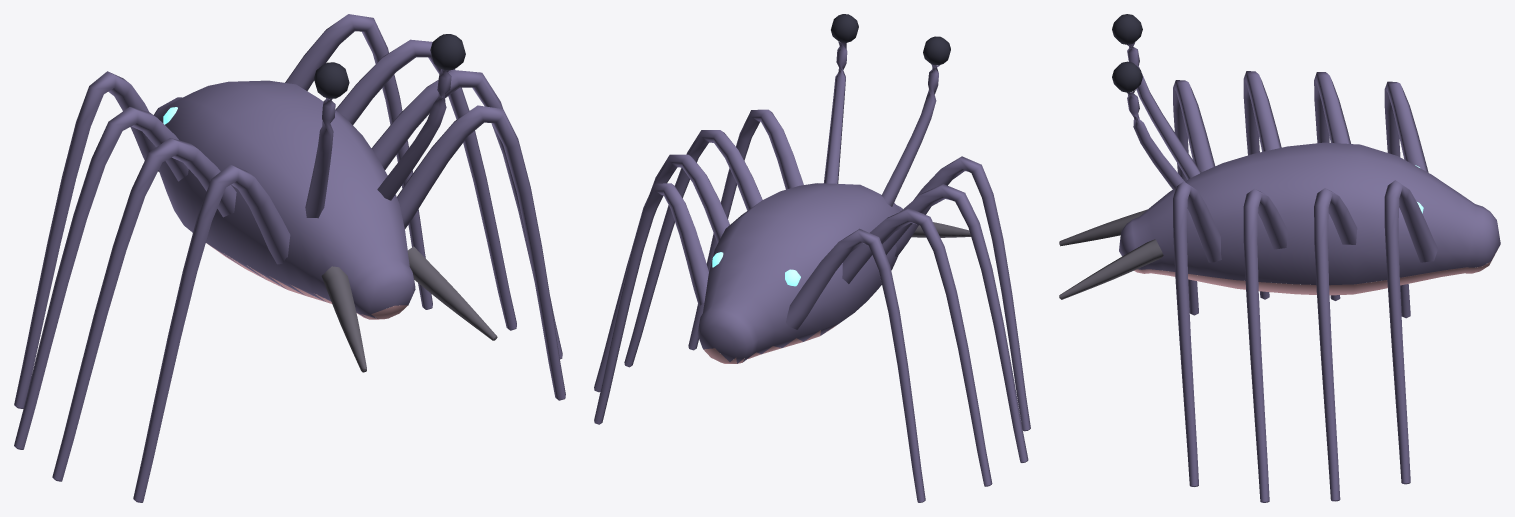
Rendered from xeno-species-and-alien-creatures-skitterer-8a14189b__21127.glb.
3 renders of one model, left to right at view 1: azimuth 30°, elevation 25°; view 2: azimuth 150°, elevation 25°; view 3: azimuth 270°, elevation 25°, orthographic. The views are drawn at different scales.
Parts seen in each view (by area): view 1: skitterer; view 2: skitterer; view 3: skitterer.
Part boxes in pixels (box(x1,y1,x2,y2)): skitterer: box(14, 14, 565, 502); skitterer: box(594, 14, 1030, 502); skitterer: box(1059, 14, 1500, 502).
Bounding box in the file's own units: 0.6991 × 0.5654 × 0.626.
